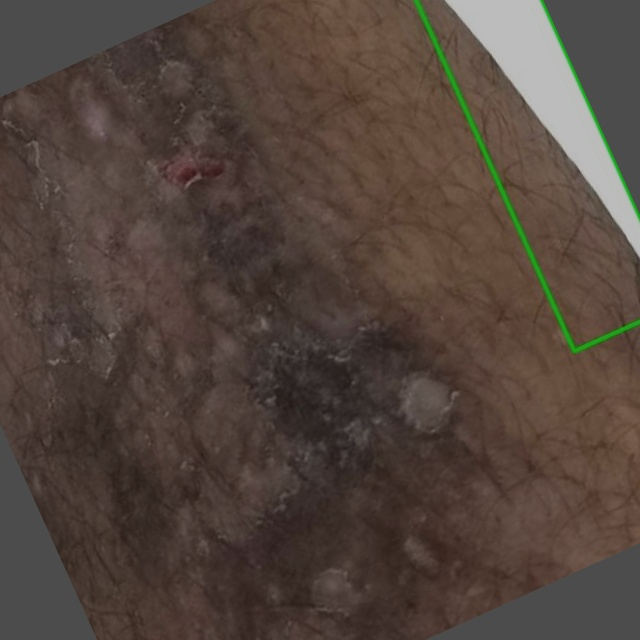Eczema: (416, 0, 639, 351)
